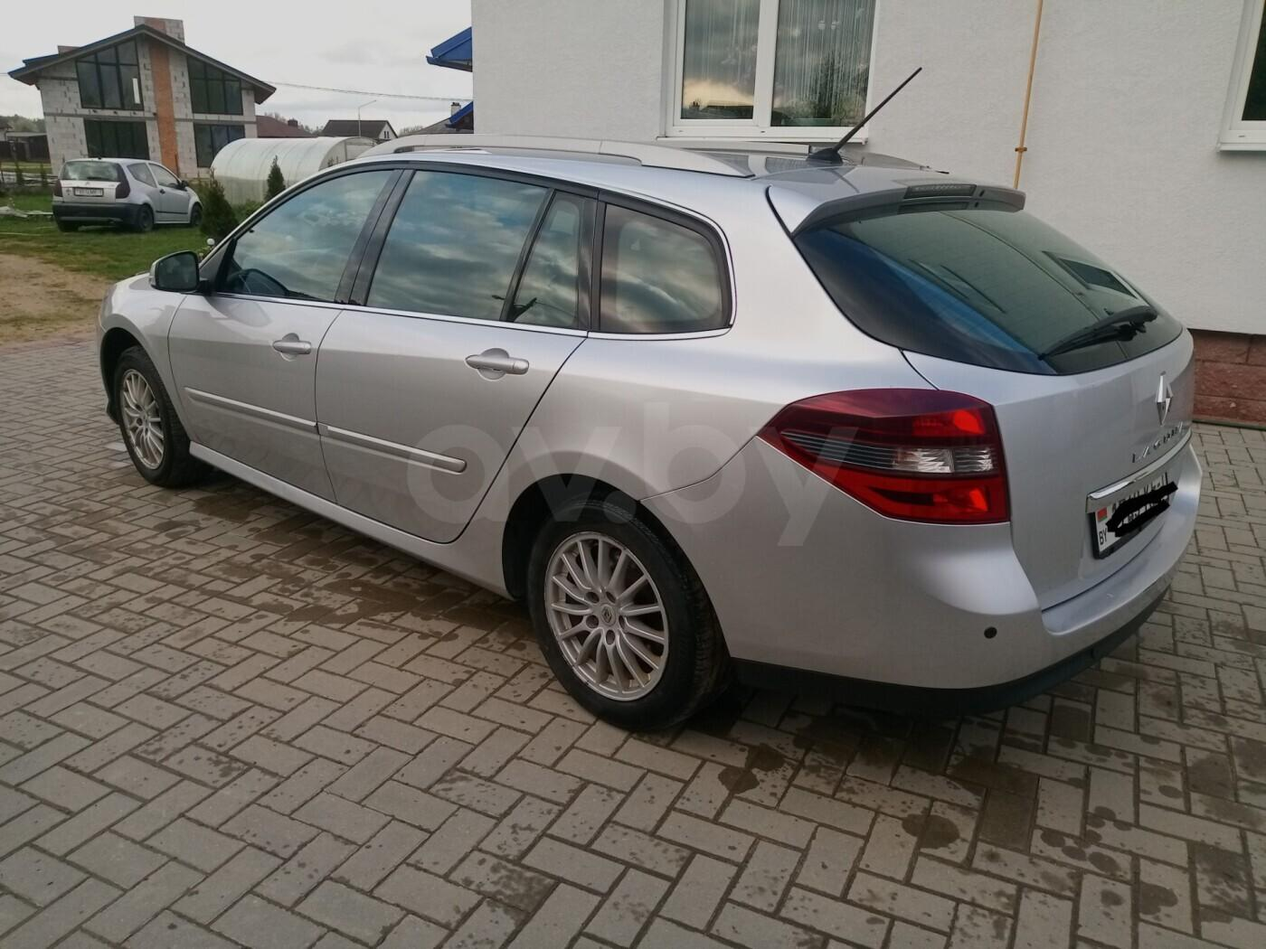Laguna_2010-2015: (94, 130, 1214, 755)
